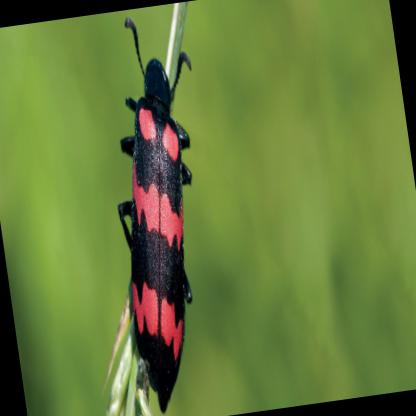blister beetle: (118, 16, 193, 416)
